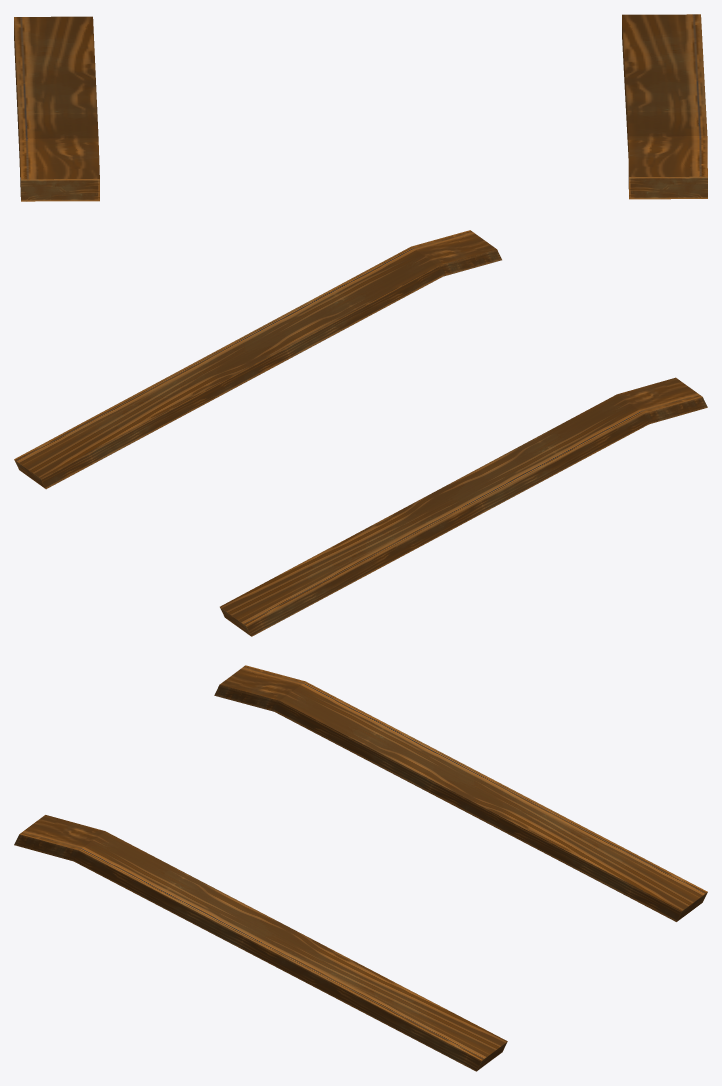
The picture shows the model from 3 angles, top to bottom: view 1: azimuth 30°, elevation 25°; view 2: azimuth 150°, elevation 25°; view 3: azimuth 270°, elevation 25°; orthographic projection. The views are drawn at different scales.
Visible parts, largest first — view 1: Cube.1954; view 2: Cube.1954; view 3: Cube.1954.
Boxes of the visible parts, box(x1,y1,x2,y2) form: Cube.1954: box(14, 14, 707, 201); Cube.1954: box(14, 230, 707, 636); Cube.1954: box(14, 665, 707, 1071).
Size of the model in its own units: 425 by 90.57 by 444.
Materials: 1 (1 with a texture image).
